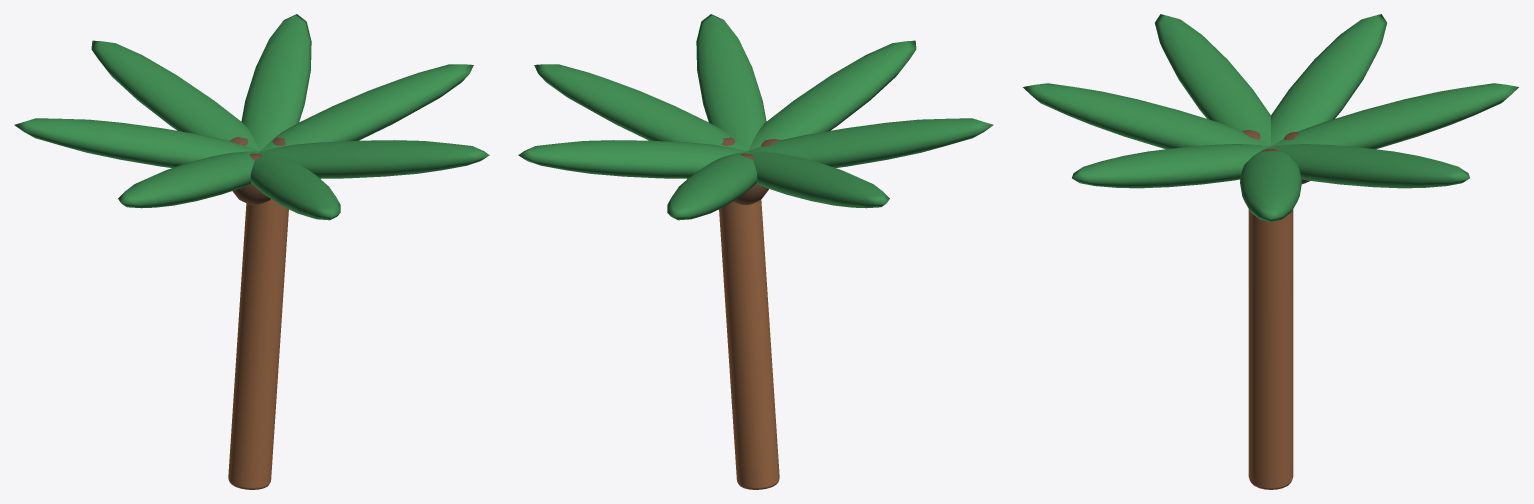
File: palm.fbx
3 views of the same model, side by side, from view 1: azimuth 30°, elevation 25°; view 2: azimuth 150°, elevation 25°; view 3: azimuth 270°, elevation 25° (orthographic). The views are drawn at different scales.
Parts seen in each view (by area): view 1: Palm trunk, Palm frond.003, Palm frond, Palm frond.002, Palm frond.006, Palm frond.001, Palm frond.004, Palm frond.005, Coconut.002; view 2: Palm trunk, Palm frond, Palm frond.004, Palm frond.005, Palm frond.001, Palm frond.006, Palm frond.003, Palm frond.002; view 3: Palm trunk, Palm frond.005, Palm frond.002, Palm frond.003, Palm frond.004, Palm frond.001, Palm frond.006, Palm frond.
Part boxes in pixels (bbox=[...]): Palm trunk: bbox=[228, 199, 288, 489]; Palm frond.003: bbox=[14, 118, 259, 167]; Palm frond: bbox=[260, 64, 473, 151]; Palm frond.002: bbox=[91, 40, 259, 150]; Palm frond.006: bbox=[261, 140, 489, 178]; Palm frond.001: bbox=[241, 14, 311, 150]; Palm frond.004: bbox=[118, 151, 259, 208]; Palm frond.005: bbox=[250, 151, 340, 220]; Coconut.002: bbox=[232, 153, 270, 204]; Palm trunk: bbox=[719, 200, 779, 489]; Palm frond: bbox=[534, 64, 747, 151]; Palm frond.004: bbox=[748, 118, 993, 167]; Palm frond.005: bbox=[748, 40, 916, 150]; Palm frond.001: bbox=[518, 140, 746, 178]; Palm frond.006: bbox=[696, 14, 766, 150]; Palm frond.003: bbox=[748, 151, 889, 208]; Palm frond.002: bbox=[667, 151, 757, 220]; Palm trunk: bbox=[1248, 209, 1293, 489]; Palm frond.005: bbox=[1023, 83, 1270, 149]; Palm frond.002: bbox=[1271, 83, 1518, 149]; Palm frond.003: bbox=[1271, 14, 1386, 145]; Palm frond.004: bbox=[1155, 14, 1270, 145]; Palm frond.001: bbox=[1271, 144, 1469, 188]; Palm frond.006: bbox=[1072, 144, 1270, 188]; Palm frond: bbox=[1240, 146, 1301, 221].
Bounding box in the file's own units: 2.18 × 1.89 × 2.23.
